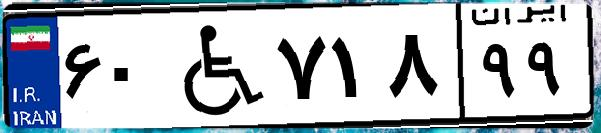0: (110, 28, 158, 98)
1: (330, 28, 385, 110)
6: (57, 26, 110, 100)
7: (270, 28, 330, 110)
8: (385, 28, 445, 110)
9: (475, 38, 525, 113), (525, 38, 570, 115)
ژ (معلولین و جانبازان): (158, 12, 270, 120)
